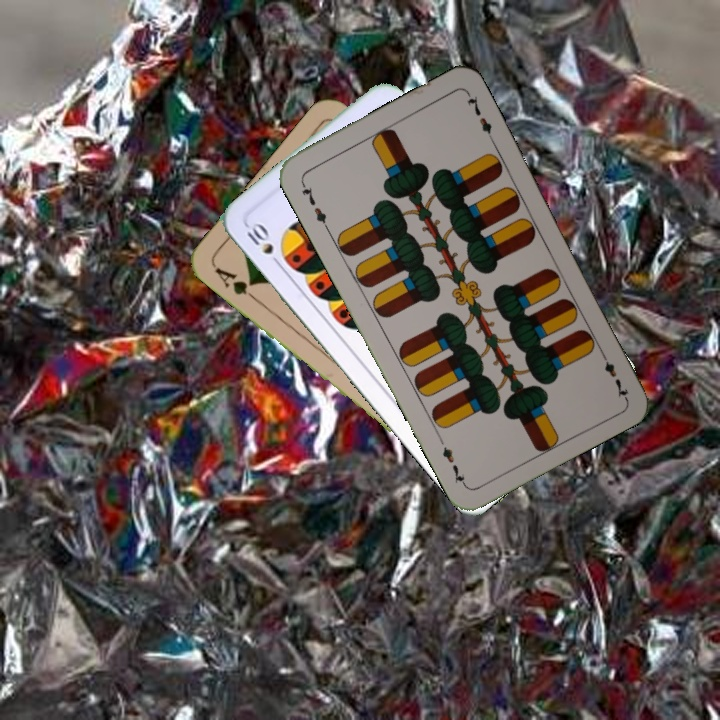E7: (596, 346, 631, 401), (297, 177, 331, 232)
GA: (211, 263, 260, 304)
S10: (240, 218, 285, 270)
